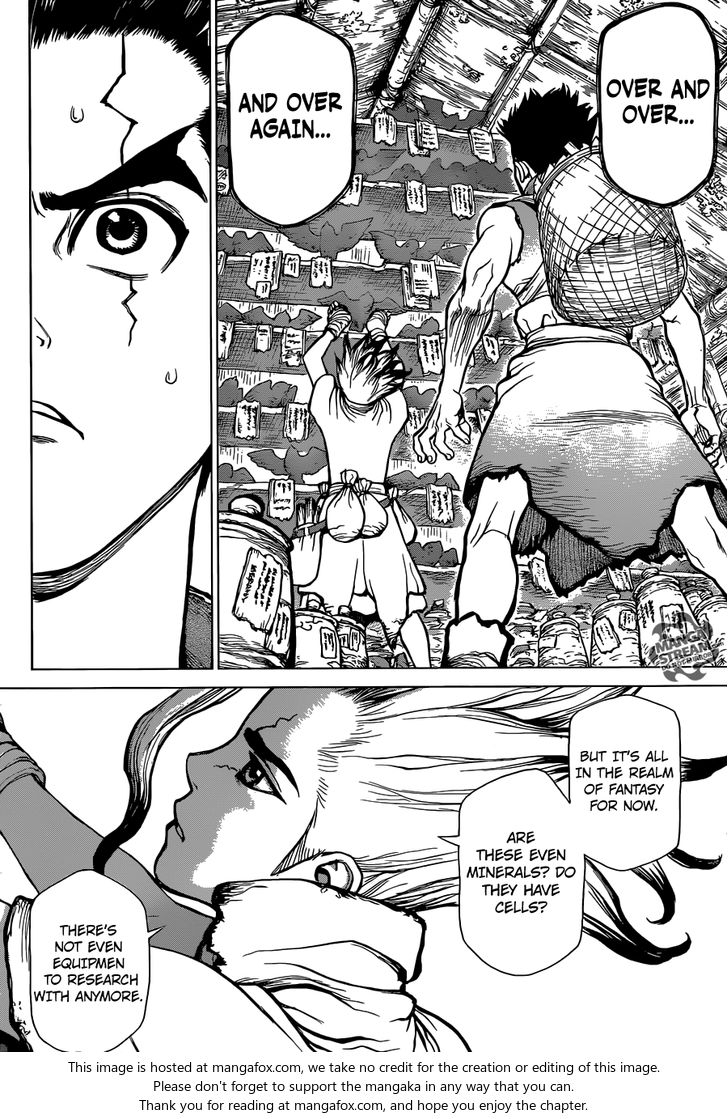bubble: (438, 768, 586, 975), (227, 10, 356, 225), (30, 869, 164, 1052), (598, 3, 718, 206), (570, 695, 681, 872)
